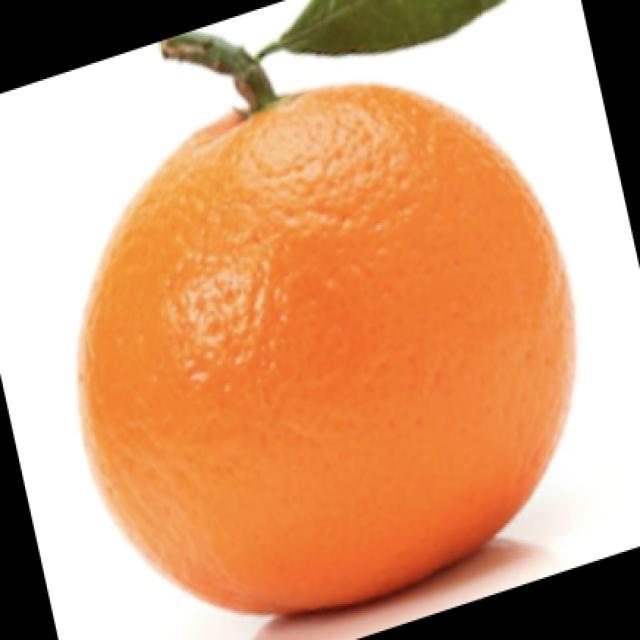matang: (80, 85, 573, 611)
